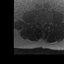CCS_normal: (42, 21, 43, 29)
LFS_normal: (45, 20, 47, 26)
LLS_normal: (43, 21, 45, 27)
RFS_stenosis: (38, 19, 40, 25)
RLS_normal: (40, 20, 42, 27)
